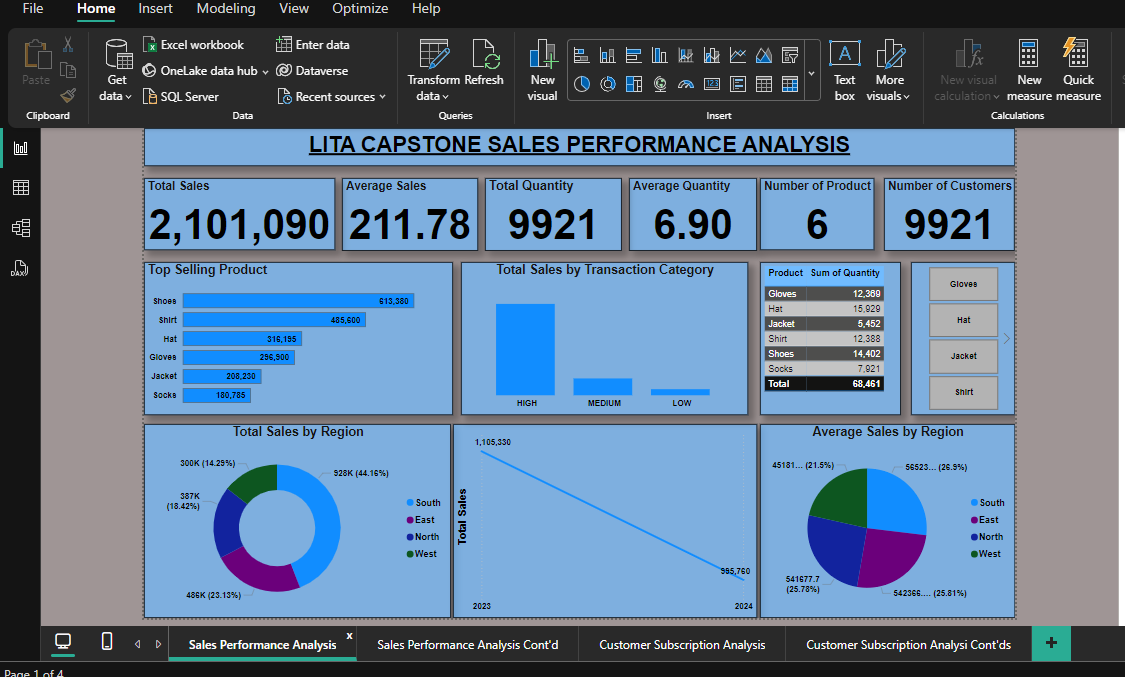

This screenshot's page, from the dashboard's own definition file:
{"tool":"powerbi","page":{"name":"Sales Performance Analysis","canvas":[1280,720],"ordinal":0},"visuals":[{"type":"textbox","box":[0,0,1279.8,55.8],"z":0},{"type":"tableEx","fields":{"Values":["Sales Data.Product","Sum(Sales Data.Quantity)"]},"box":[905.1,196.9,207.2,224.8],"z":1000},{"type":"card","title":"Average Sales","fields":{"Values":["Avg(Sales Data.Total Sales)"]},"box":[290.9,73.5,199.8,107.3],"z":2000},{"type":"card","title":"Total Sales","fields":{"Values":["Sum(Sales Data.Total Sales)"]},"box":[0,73.5,280.7,105.8],"z":3000},{"type":"card","title":"Average Quantity","fields":{"Values":["Avg(Sales Data.Quantity)"]},"box":[712.7,73.5,188.1,107.3],"z":4000},{"type":"card","title":"Total Quantity","fields":{"Values":["CountNonNull(Sales Data.Quantity)"]},"box":[501.1,73.5,201.3,107.3],"z":5000},{"type":"card","title":"Number of Product","fields":{"Values":["Count(Sales Data.Product)"]},"box":[905.1,73.5,167.5,105.8],"z":6000},{"type":"clusteredBarChart","title":"Top Selling Product","fields":{"Category":["Sales Data.Product"],"Y":["Sum(Sales Data.Total Sales)"]},"box":[0,196.9,454,224.8],"z":7000},{"type":"donutChart","title":"Total Sales by Region","fields":{"Category":["Sales Data.Region"],"Y":["Sum(Sales Data.Total Sales)"]},"box":[0,434.9,451.1,285.1],"z":8000},{"type":"lineChart","fields":{"Category":["Sales Data.OrderDate.Variation.Date Hierarchy.Year","Sales Data.OrderDate.Variation.Date Hierarchy.Month"],"Y":["Sum(Sales Data.Total Sales)"]},"box":[454,434.9,446.7,285.1],"z":9000},{"type":"clusteredColumnChart","title":"Total Sales by Transaction Category","fields":{"Y":["Sum(Sales Data.Total Sales)"],"Category":["Sales Data.Transaction Category"]},"box":[465.8,196.9,421.7,224.8],"z":10000},{"type":"slicer","fields":{"Values":["Sales Data.Product"]},"box":[1127,261.6,152.8,160.2],"z":11000},{"type":"card","title":"Number of Customers","fields":{"Values":["CountNonNull(Sales Data.Customer Id)"]},"box":[1087.3,73.5,192.5,107.3],"z":12000},{"type":"pieChart","title":"Average Sales  by Region","fields":{"Category":["Sales Data.Region"],"Y":["Sum(Sales Data.Average Sales )"]},"box":[905.1,434.9,374.7,285.1],"z":13000},{"type":"slicer","fields":{"Values":["Sales Data.Region"]},"box":[1115.3,196.9,164.6,54.4],"z":14000}]}

Visuals, with their boxes on the page's 1280x720 design canvas (x1, y1, x2, y2). These are canvas units, not pixel positions in the 1125x677 screenshot, which may show the page scaled, cropped or inside an application window:
textbox: 0, 0, 1280, 56
tableEx - Sales Data.Product x Sum(Sales Data.Quantity): 905, 197, 1112, 422
"Average Sales" card: 291, 74, 491, 181
"Total Sales" card: 0, 74, 281, 179
"Average Quantity" card: 713, 74, 901, 181
"Total Quantity" card: 501, 74, 702, 181
"Number of Product" card: 905, 74, 1073, 179
"Top Selling Product" clusteredBarChart: 0, 197, 454, 422
"Total Sales by Region" donutChart: 0, 435, 451, 720
lineChart - Sales Data.OrderDate.Variation.Date Hierarchy.Year x Sales Data.OrderDate.Variation.Date Hierarchy.Month: 454, 435, 901, 720
"Total Sales by Transaction Category" clusteredColumnChart: 466, 197, 888, 422
slicer - Sales Data.Product: 1127, 262, 1280, 422
"Number of Customers" card: 1087, 74, 1280, 181
"Average Sales  by Region" pieChart: 905, 435, 1280, 720
slicer - Sales Data.Region: 1115, 197, 1280, 251
